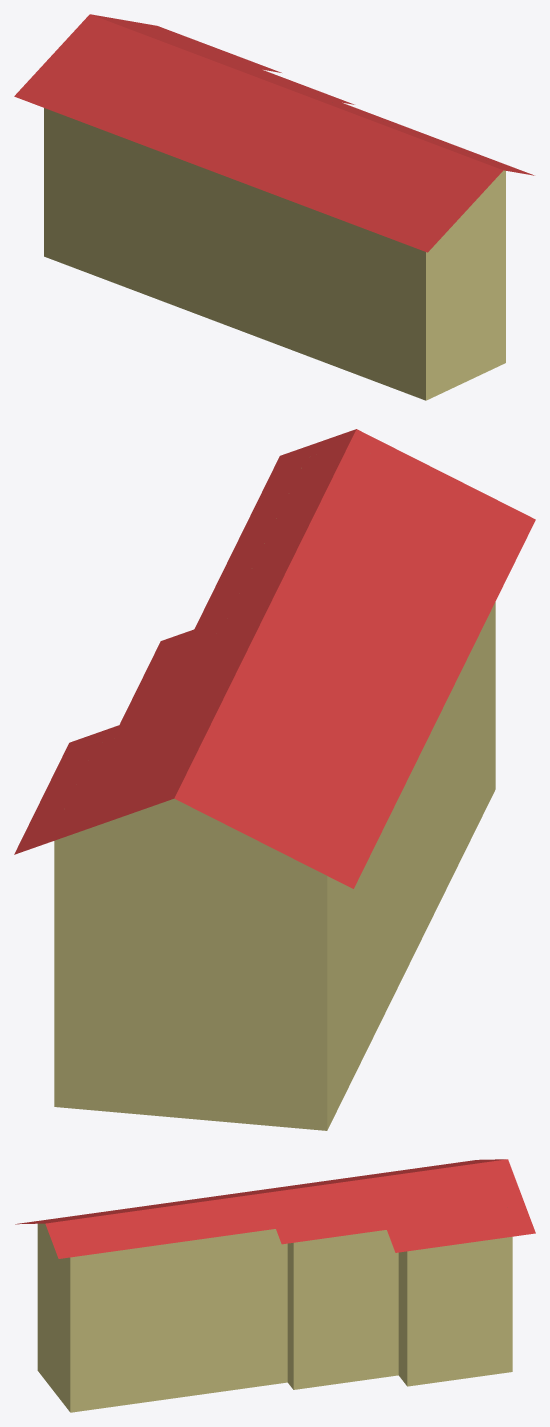
The picture shows the model from 3 angles, top to bottom: view 1: azimuth 30°, elevation 25°; view 2: azimuth 150°, elevation 25°; view 3: azimuth 270°, elevation 25°; orthographic projection. The views are drawn at different scales.
Size of the model in its own units: 11.6 by 21.03 by 8.09.
